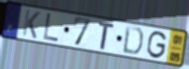7: (73, 16, 92, 48)
D: (121, 24, 145, 56)
G: (145, 30, 168, 60)
K: (21, 8, 42, 40)
L: (42, 12, 61, 44)
T: (97, 20, 116, 51)
